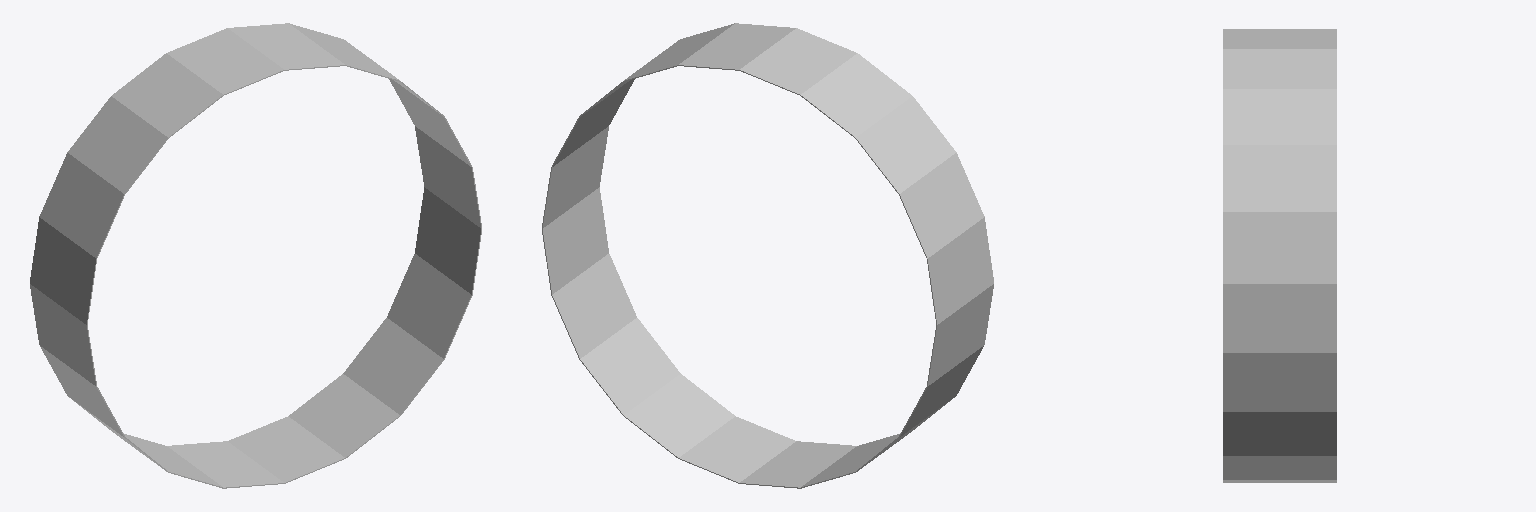
Rendered from pipe1.obj.
The picture shows the model from 3 angles: view 1: azimuth 30°, elevation 25°; view 2: azimuth 150°, elevation 25°; view 3: azimuth 270°, elevation 25°; orthographic projection.
Visible parts, largest first — view 1: pPipe1; view 2: pPipe1; view 3: pPipe1.
Boxes of the visible parts, box(x1,y1,x2,y2) form: pPipe1: box(30, 23, 481, 488); pPipe1: box(542, 23, 993, 488); pPipe1: box(1223, 29, 1336, 482).
Bounding box in the file's own units: 4 × 4 × 1.